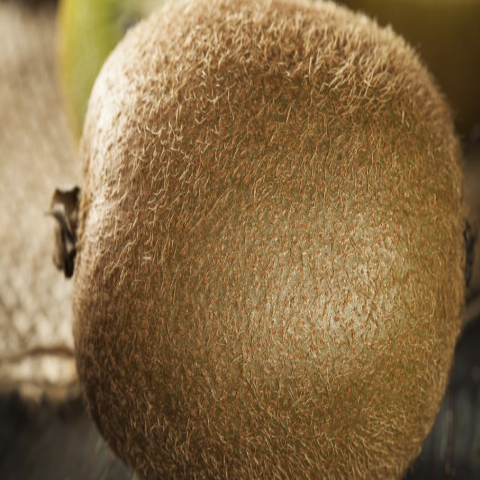kiwi: (30, 0, 480, 480)
